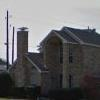Chimney: (13, 22, 36, 63)
